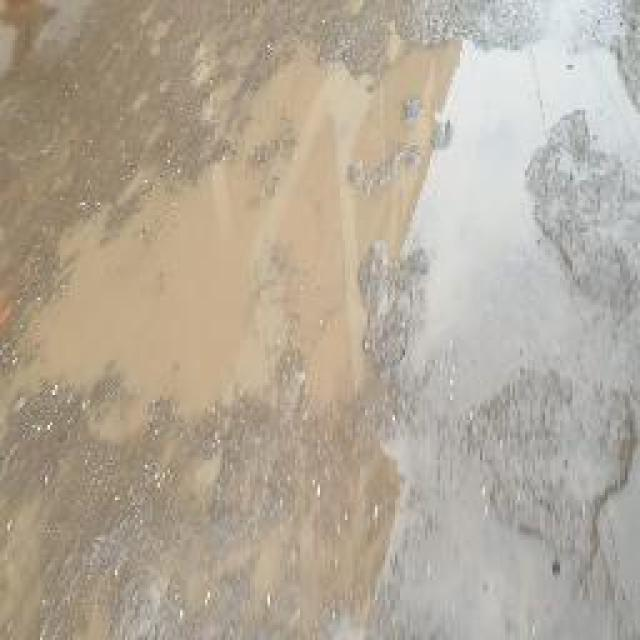stagnation: (0, 37, 640, 451)
